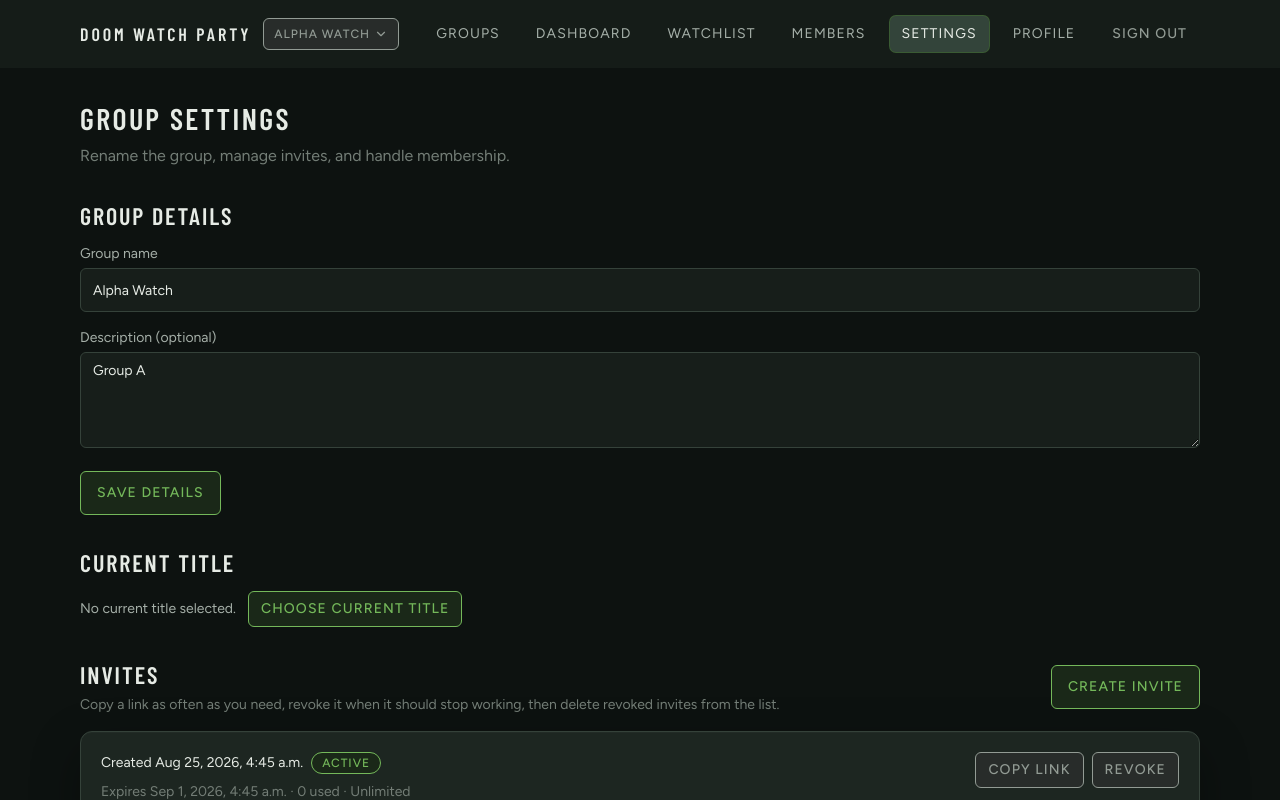
Scenario: invites › lets an owner revoke an active invite
The image size is (1280, 800).
Check: the text "Active" is shown, box [311,752,381,774]
Check: the button "Copy link" is shown, box [975,752,1084,788]
Click the button "Revoke": (1135, 770) [1092,752,1179,788]
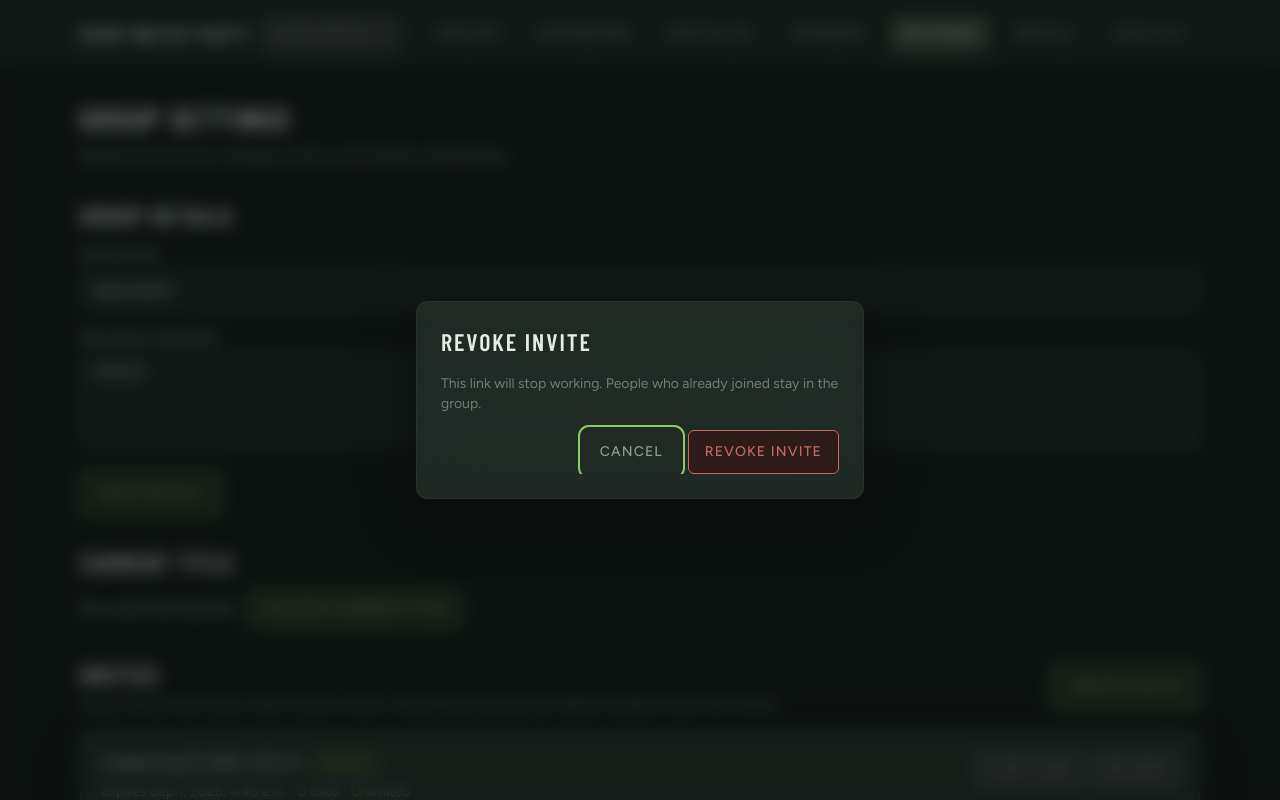
Click the button "Revoke invite": (763, 452) [688,430,839,474]
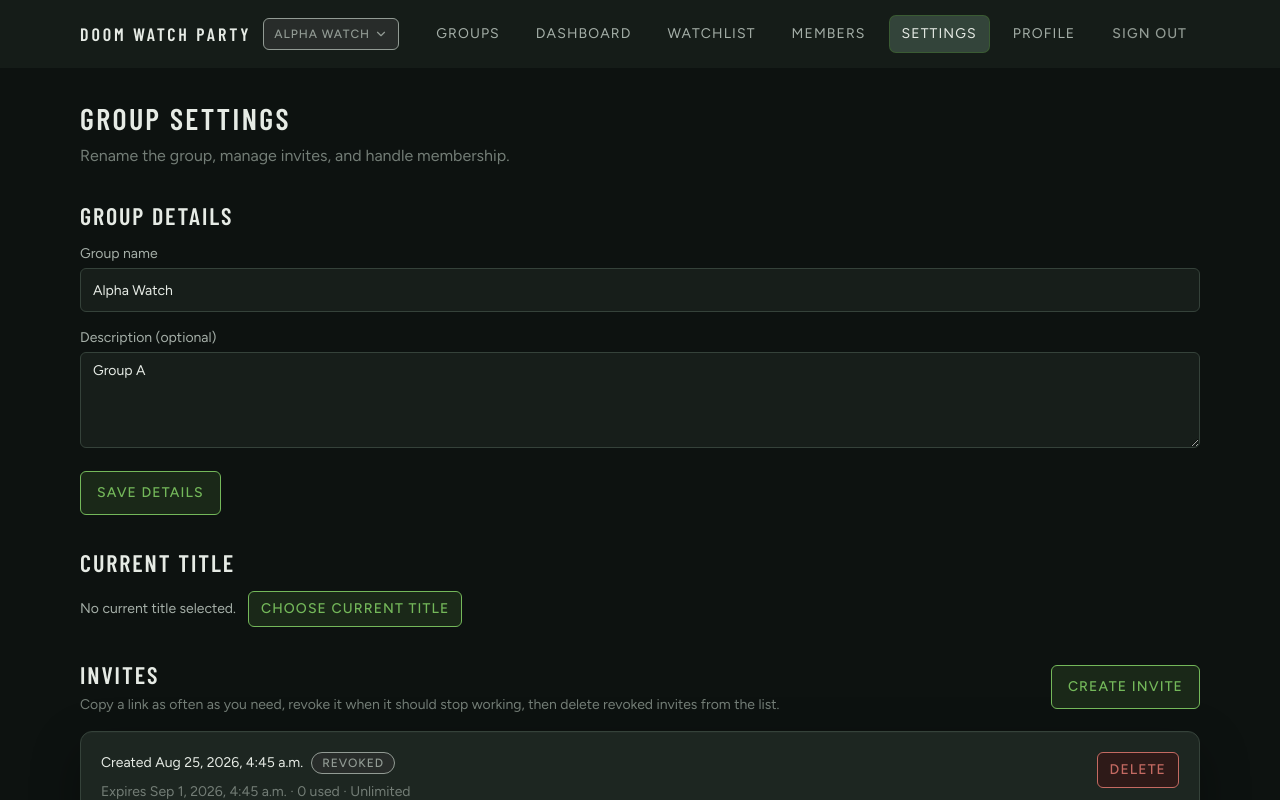
Check: the button "Copy link" is not shown
Check: the text "Revoked" is shown, box [311,752,395,774]
Check: the button "Delete" is shown, box [1097,752,1179,788]
